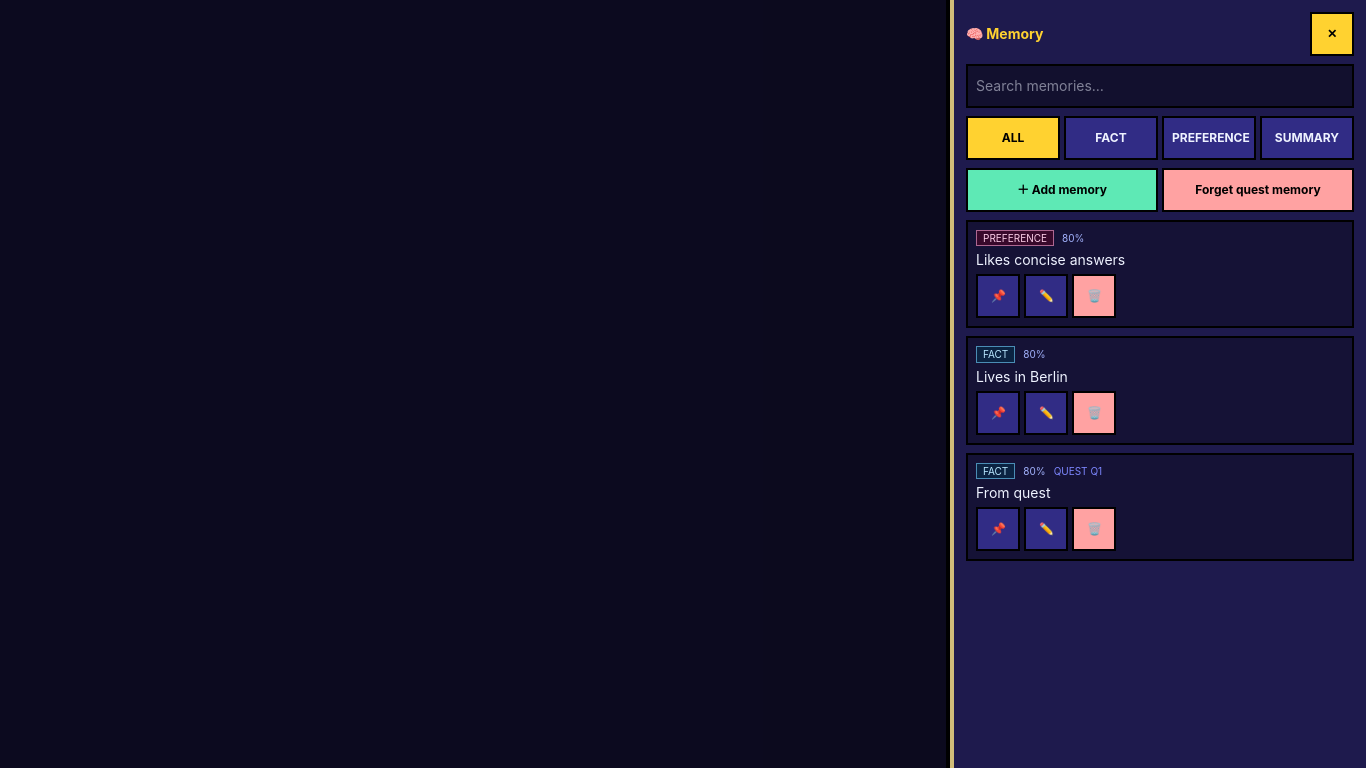
Test: MemoryPanel › forgets quest memory when a quest exists
The image size is (1366, 768).
Expected: the text "From quest" is shown, [976,484,1050,501]
Click the button "Forget quest memory" at {"x": 1258, "y": 190}, box [1162,168,1354,212]
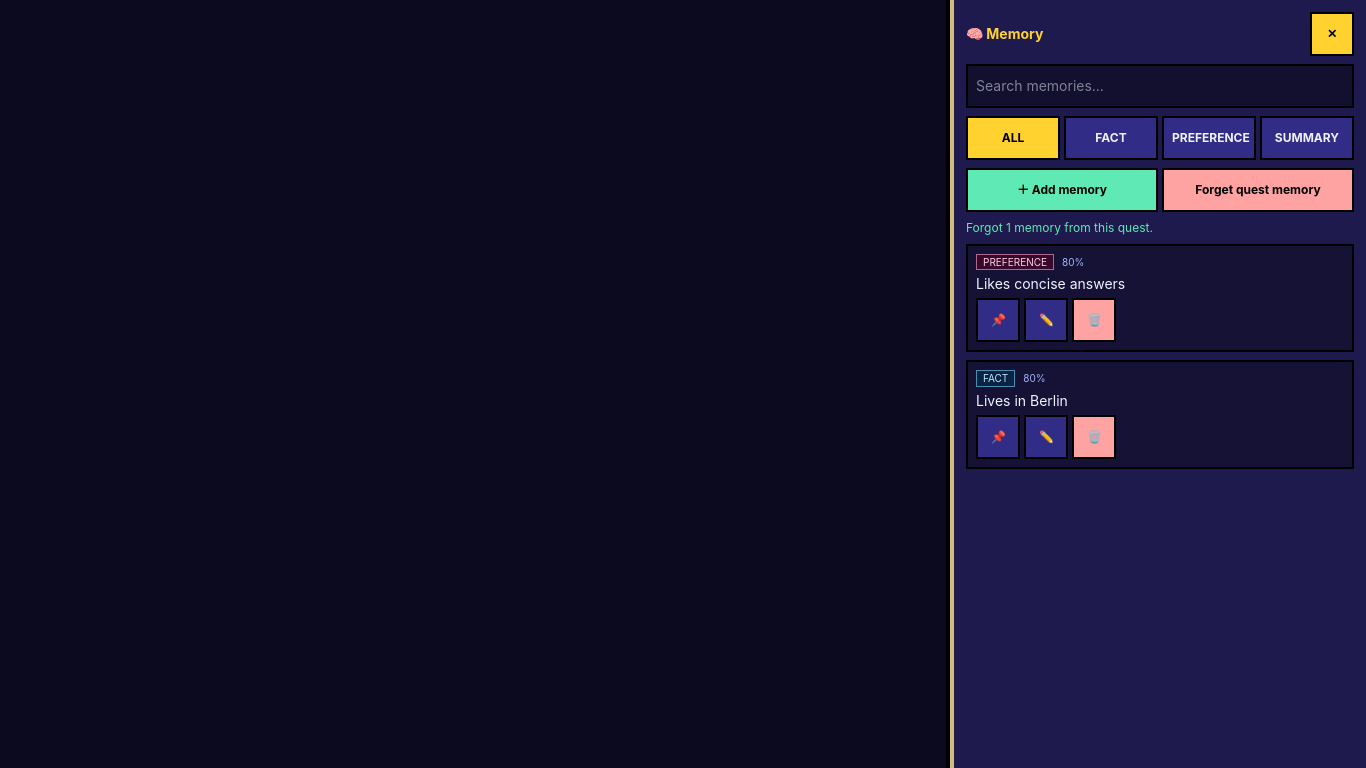
Expected: the text "From quest" is gone
Expected: the message shows "Forgot 1 memory", [966,220,1153,235]
